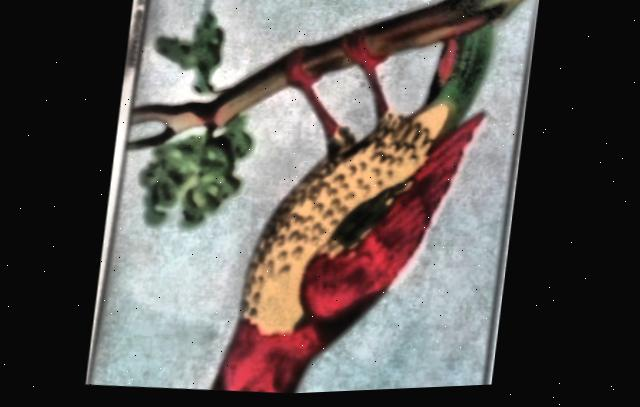El Pajaro: (92, 0, 538, 396)
